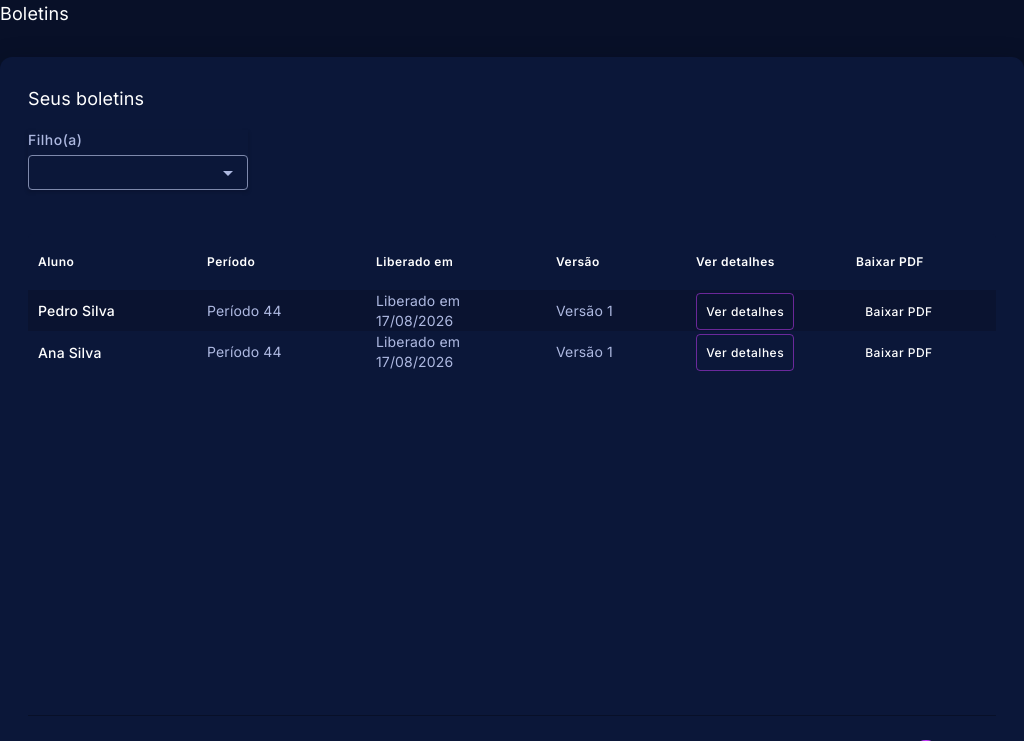
Test: MyReportCards › opens detail metadata for a publication
expect the text "Pedro Silva" is shown: met, box [38,300,115,322]
What coordinates should you click on to do the following:
click the button "Ver detalhes" in the row of "Pedro Silva"
I would click on:
 (745, 312)
Its box is [696,293,794,330].
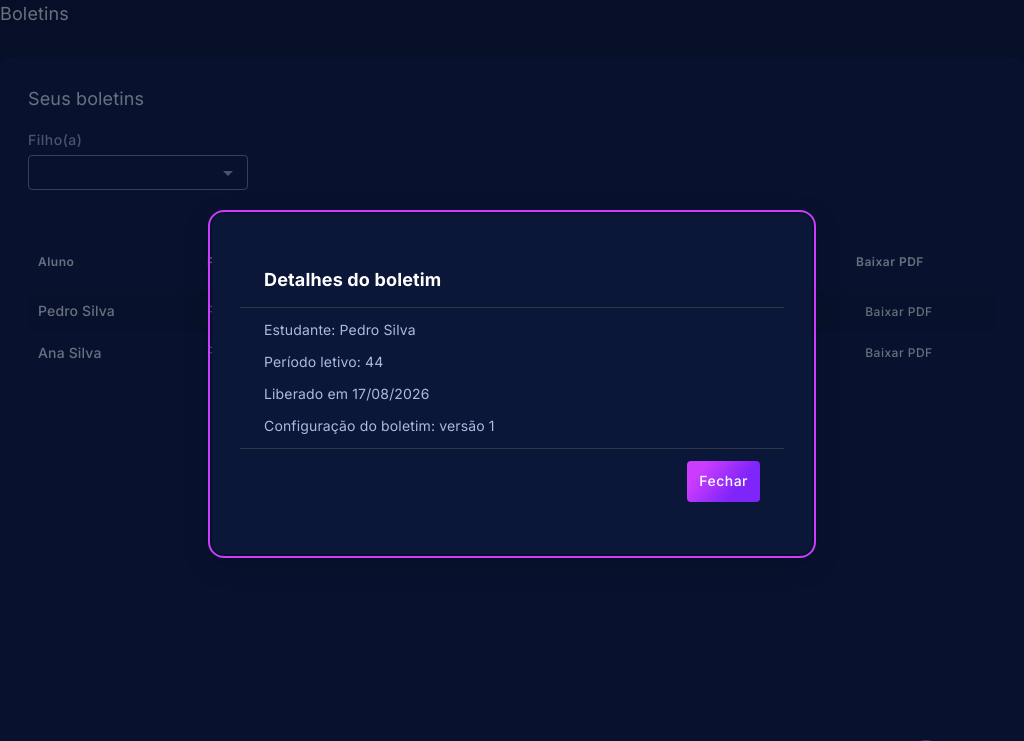
expect the heading "Detalhes do boletim" is shown: met, box [264,269,441,290]
expect the text "Estudante: Pedro Silva" is shown: met, box [264,321,416,338]
expect the text "Período letivo: 44" is shown: met, box [264,353,383,370]
